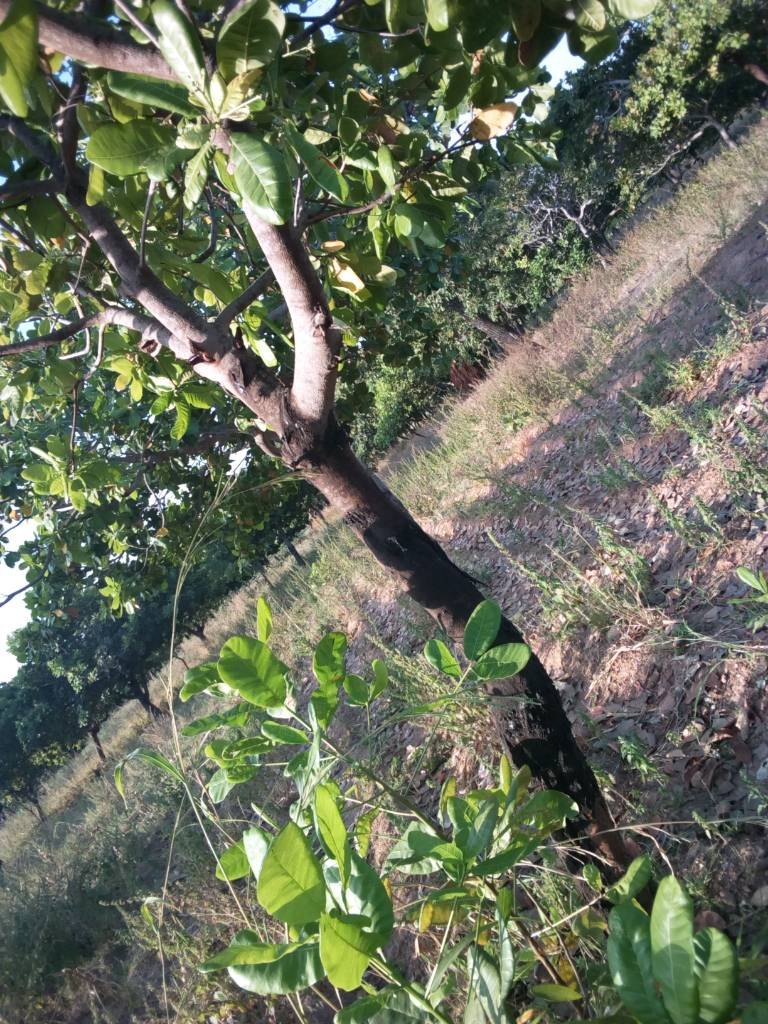Gommose: (480, 688, 597, 800)
